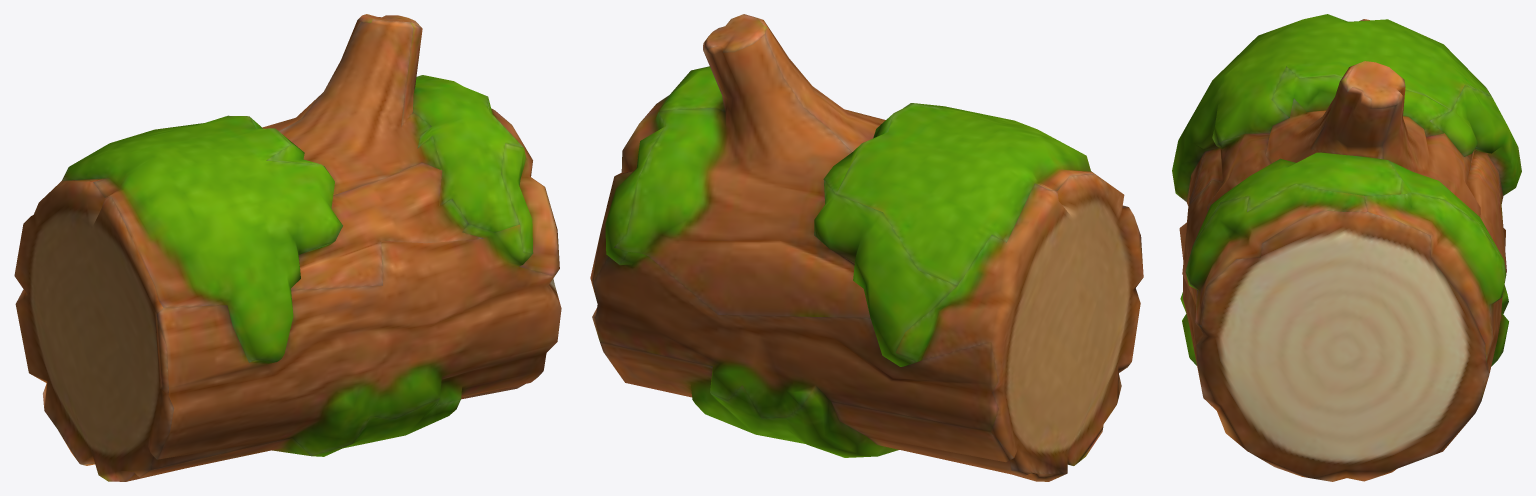
Rendered from log.glb.
3 views of the same model, side by side, from view 1: azimuth 30°, elevation 25°; view 2: azimuth 150°, elevation 25°; view 3: azimuth 270°, elevation 25° (orthographic). The views are drawn at different scales.
Visible parts, largest first — view 1: geometry_0; view 2: geometry_0; view 3: geometry_0.
Boxes of the visible parts, x1=… form: geometry_0: x1=14, y1=14, x2=561, y2=481; geometry_0: x1=590, y1=14, x2=1143, y2=481; geometry_0: x1=1172, y1=14, x2=1521, y2=481.
Bounding box in the file's own units: 0.9575 × 0.8696 × 0.7104.
1 material, 1 textured.
